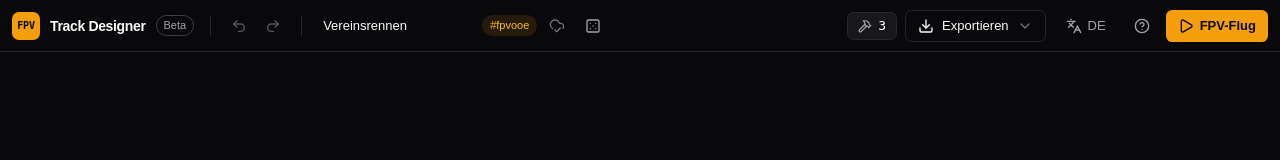
Test case: TopBar › renames the track on blur and marks it unsaved
The width and height of the screenshot is (1280, 160).
Expected: the element named "Gespeichert" is shown, [549,18,565,34]
Replace the text in the field named "Streckenname" with "Halle Training" at (394,26), box [314,10,474,42]
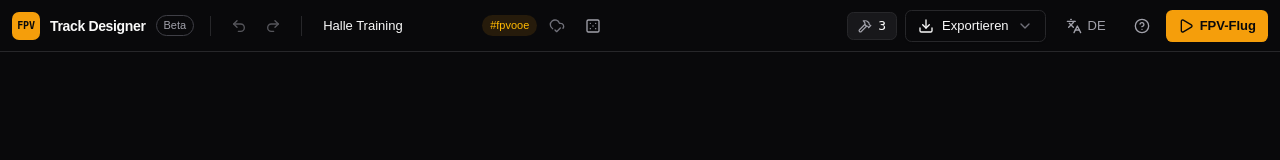
Leave the field named "Streckenname", box [314,10,474,42]
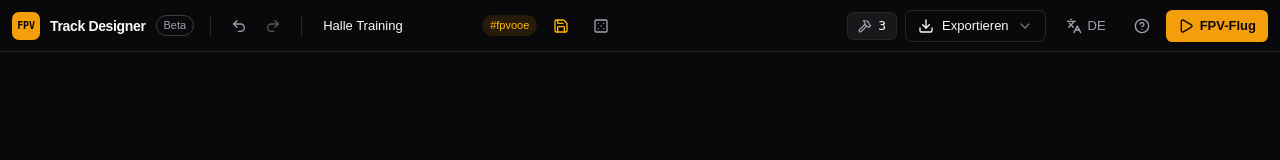
Result: the button named "Ungespeicherte Änderungen – jetzt speichern" is shown at [545,10,577,42]
